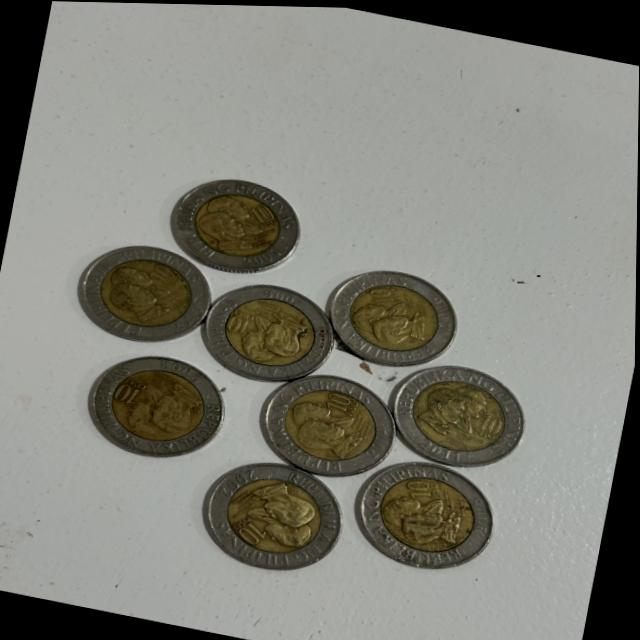10_Old_Front: (396, 470, 454, 506), (228, 508, 275, 547), (109, 376, 152, 413), (317, 385, 366, 417), (361, 279, 406, 313), (225, 302, 260, 342), (470, 404, 507, 441), (245, 198, 281, 232), (149, 260, 187, 289)
